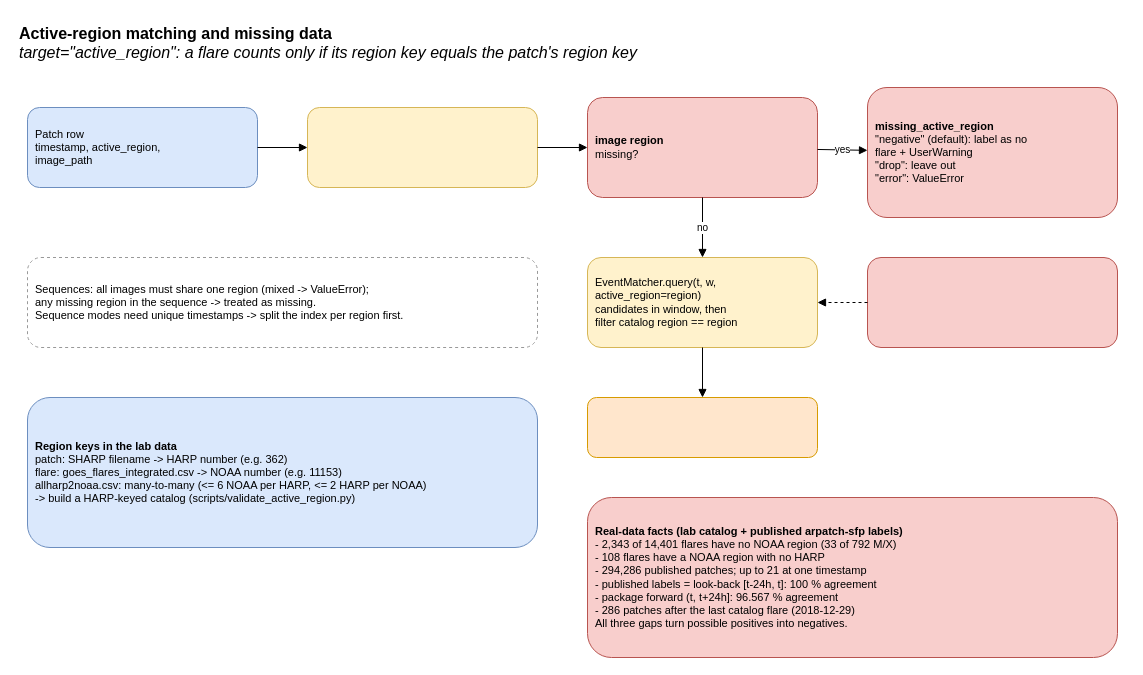
Some shapes in this 1143 by 675 pixel diagram are drawn without their labels. Each missing label, with the centre of its shape:
_normalize_active_region() 13600 / 13600.0 / "13600" -> "13600" blank -> None: (x=422, y=147)
Catalog flare without region: never matches any patch (UserWarning with count): (x=992, y=302)
strategy.label(flares): (x=702, y=427)
